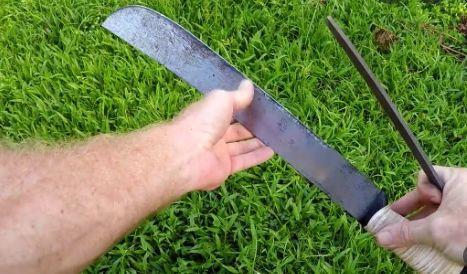facao: (97, 3, 467, 274)
